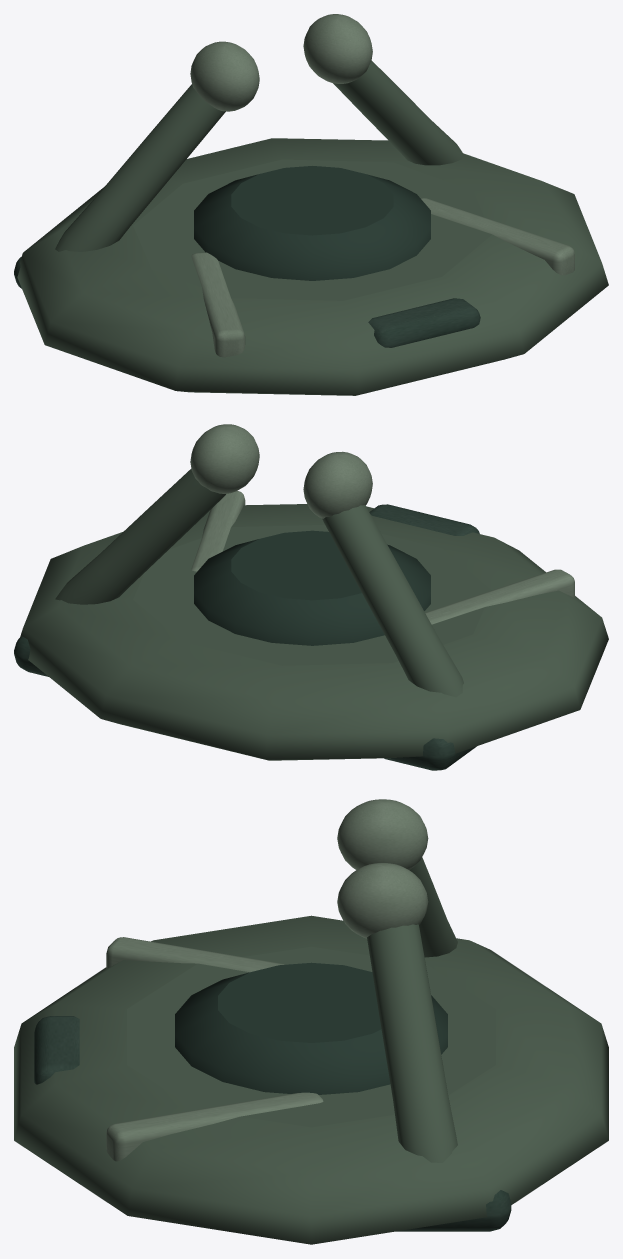
The model's file is mortar_base.glb.
The picture shows the model from 3 angles, top to bottom: view 1: azimuth 30°, elevation 25°; view 2: azimuth 150°, elevation 25°; view 3: azimuth 270°, elevation 25°; orthographic projection. The views are drawn at different scales.
Parts seen in each view (by area): view 1: Mortar Base.001; view 2: Mortar Base.001; view 3: Mortar Base.001.
Boxes of the visible parts, x1,y1,x2,y2 form: Mortar Base.001: (14, 14, 608, 395); Mortar Base.001: (14, 424, 608, 770); Mortar Base.001: (14, 799, 608, 1244).
Bounding box in the file's own units: 1.04 × 0.4553 × 0.8715.
3 materials, 3 textured.
